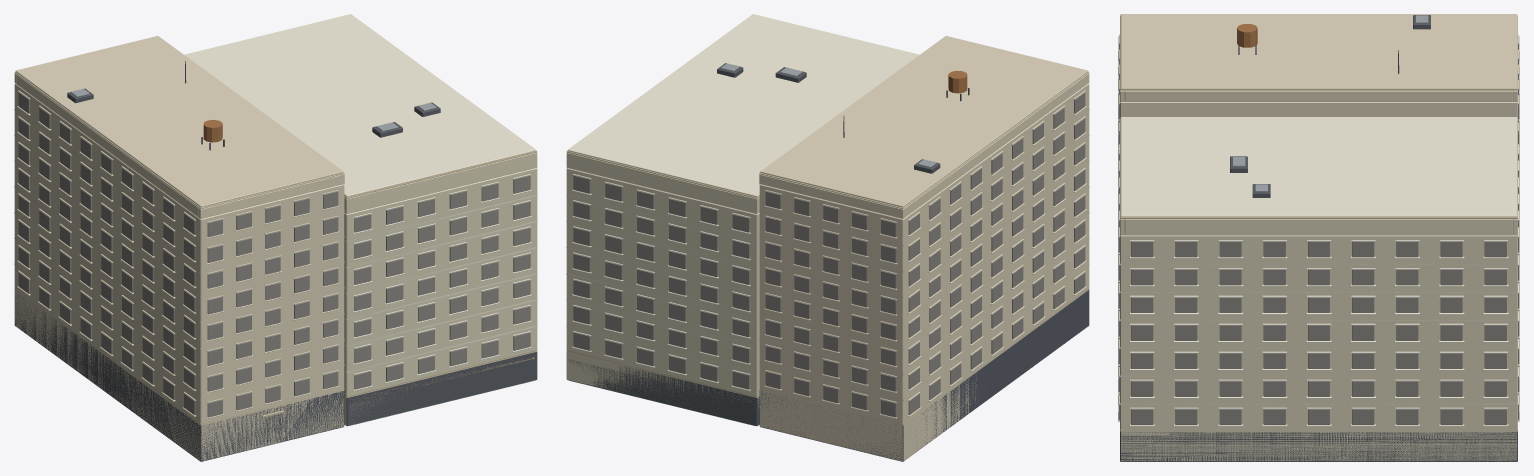
File: VG_Bld_Downtown_07.fbx
3 renders of one model, left to right at view 1: azimuth 30°, elevation 25°; view 2: azimuth 150°, elevation 25°; view 3: azimuth 270°, elevation 25°, orthographic. The views are drawn at different scales.
Visible parts, largest first — view 1: VG_Bld_Downtown_07_Body; view 2: VG_Bld_Downtown_07_Body; view 3: VG_Bld_Downtown_07_Body.
Part boxes in pixels (left/top/right/bottom): VG_Bld_Downtown_07_Body: left=14, top=14, right=537, bottom=461; VG_Bld_Downtown_07_Body: left=566, top=14, right=1089, bottom=461; VG_Bld_Downtown_07_Body: left=1118, top=14, right=1519, bottom=461.
Bounding box in the file's own units: 44 × 34.26 × 42.
